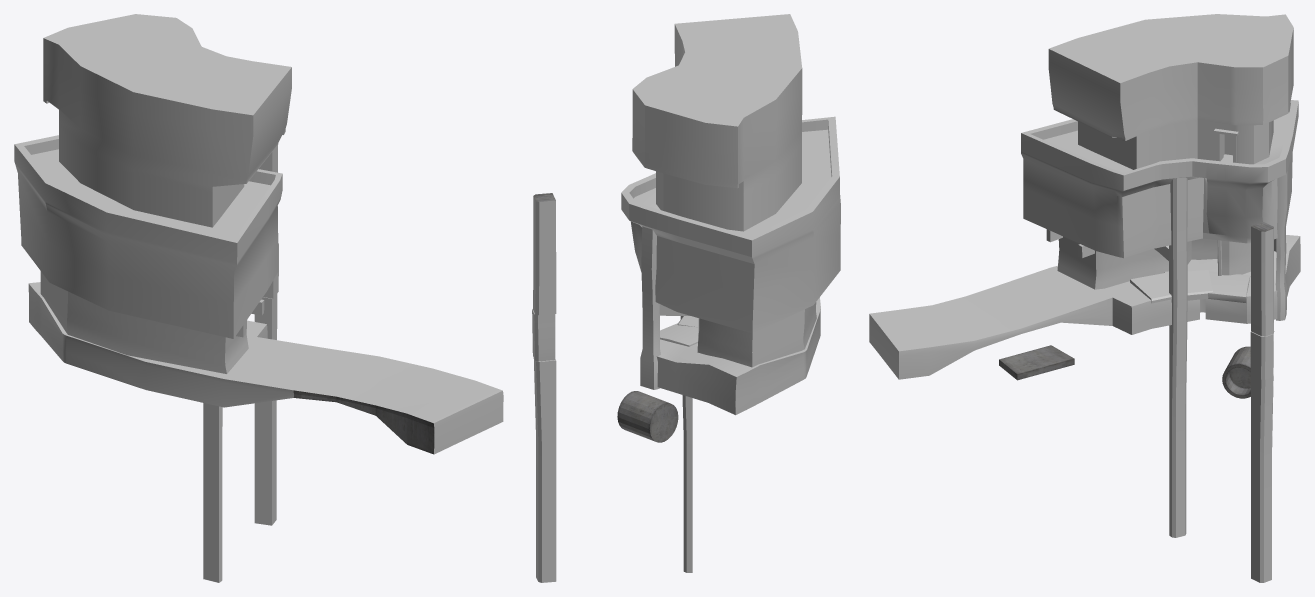
The picture shows the model from 3 angles, left to right: view 1: azimuth 30°, elevation 25°; view 2: azimuth 150°, elevation 25°; view 3: azimuth 270°, elevation 25°; orthographic projection. The views are drawn at different scales.
Visible parts, largest first — view 1: Cube.059; view 2: Cube.059; view 3: Cube.059.
Part boxes in pixels (x1=…): Cube.059: x1=14, y1=14, x2=503, y2=582; Cube.059: x1=532, y1=14, x2=840, y2=582; Cube.059: x1=869, y1=14, x2=1300, y2=582.
Bounding box in the file's own units: 2466 × 4374 × 3619.
